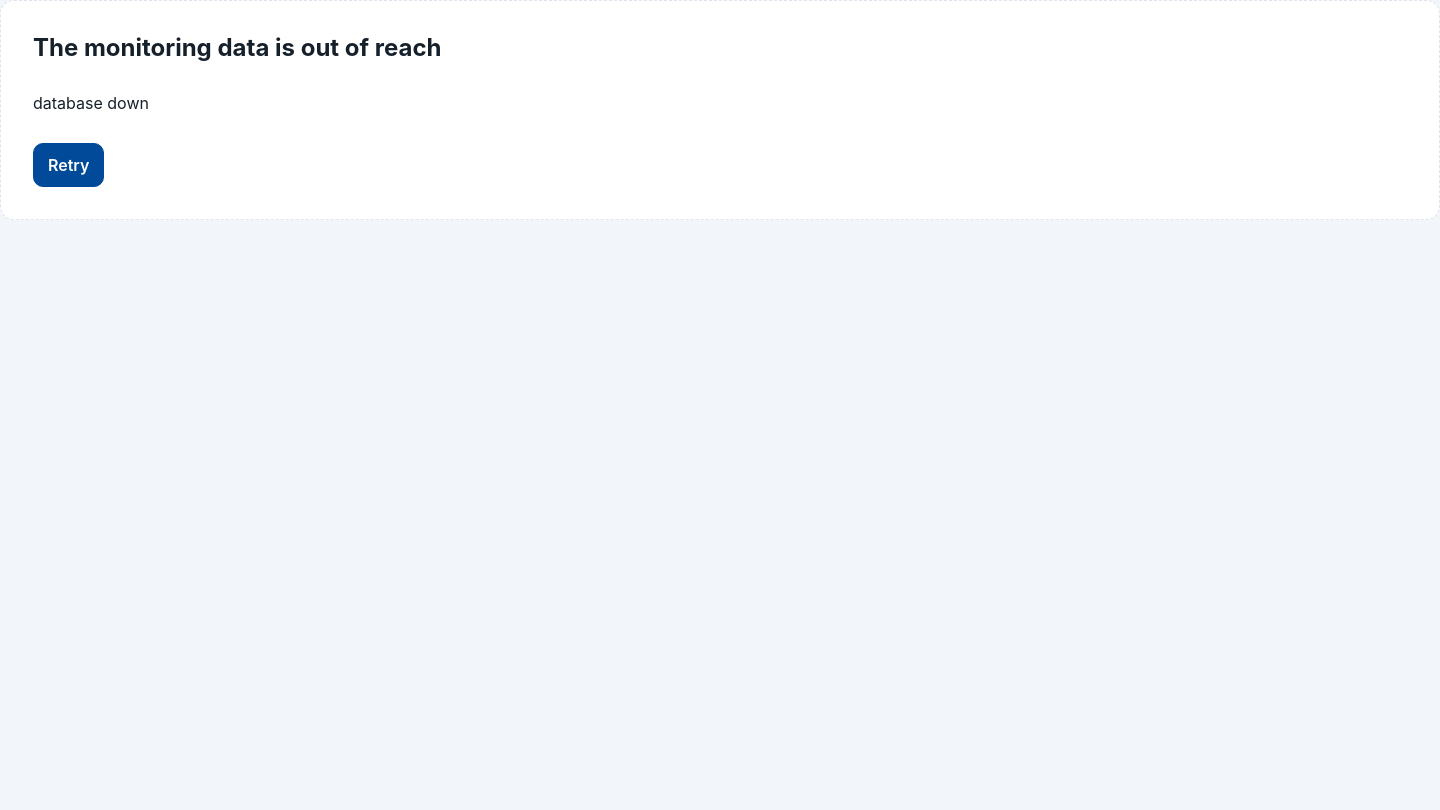
it: MonitoringTab › recovers when the retry probe succeeds
The width and height of the screenshot is (1440, 810).
expect the text "database down" is shown: met, box top-left (33, 91), bottom-right (149, 115)
What coordinates should you click on to do the following:
click the button "Retry"
I would click on:
 (69, 165)
Its box is top-left (33, 143), bottom-right (104, 187).
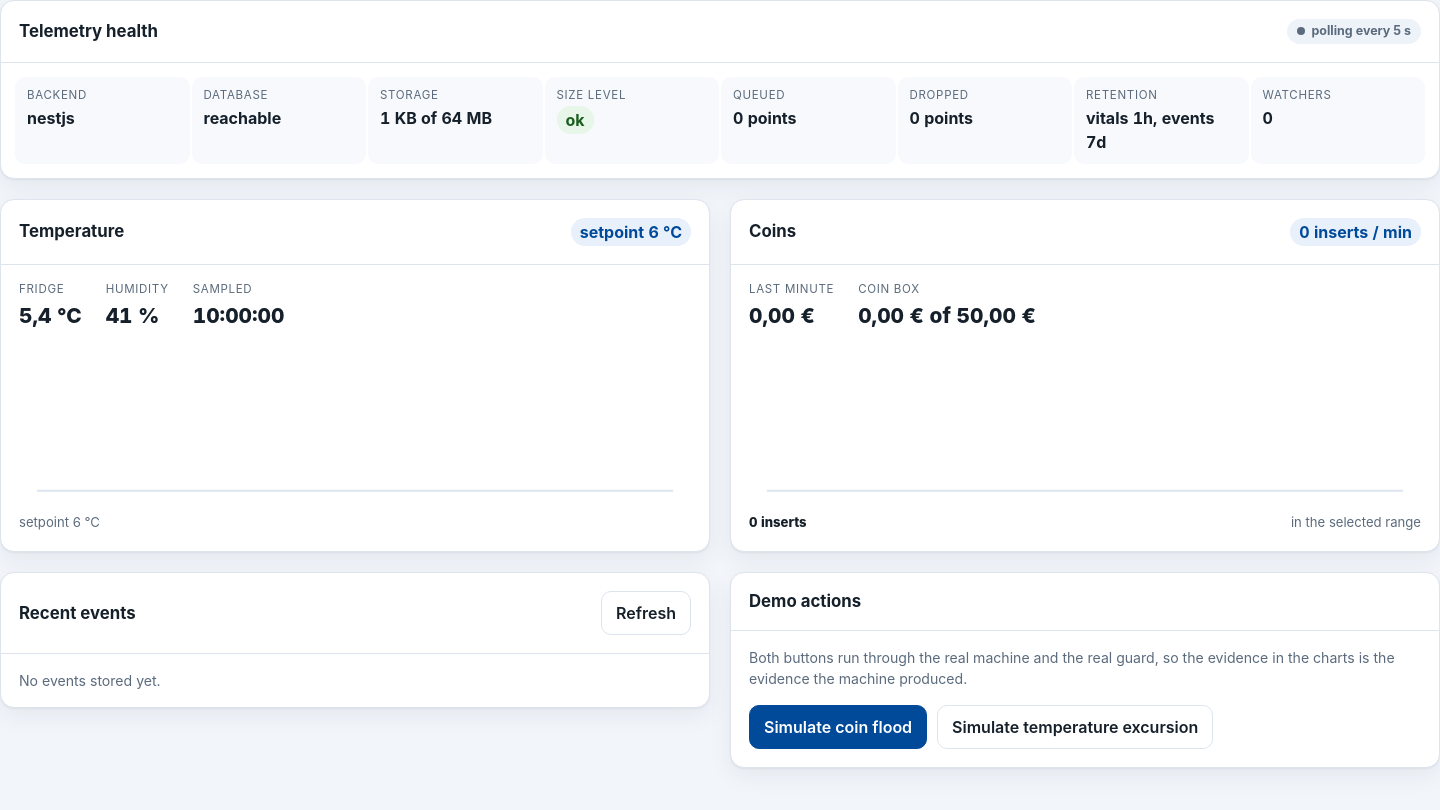
expect the element "Telemetry health" is shown: met, box top-left (0, 0), bottom-right (1439, 179)
